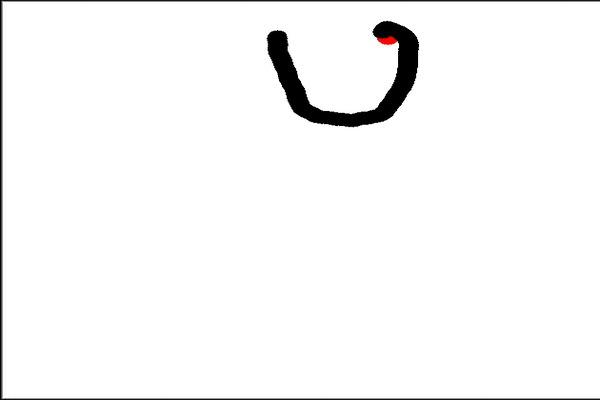U: (257, 10, 430, 128)
